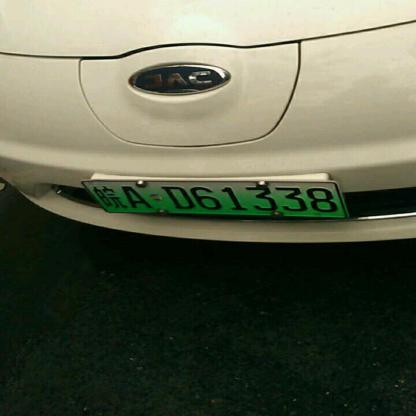lp: (83, 181, 346, 215)
